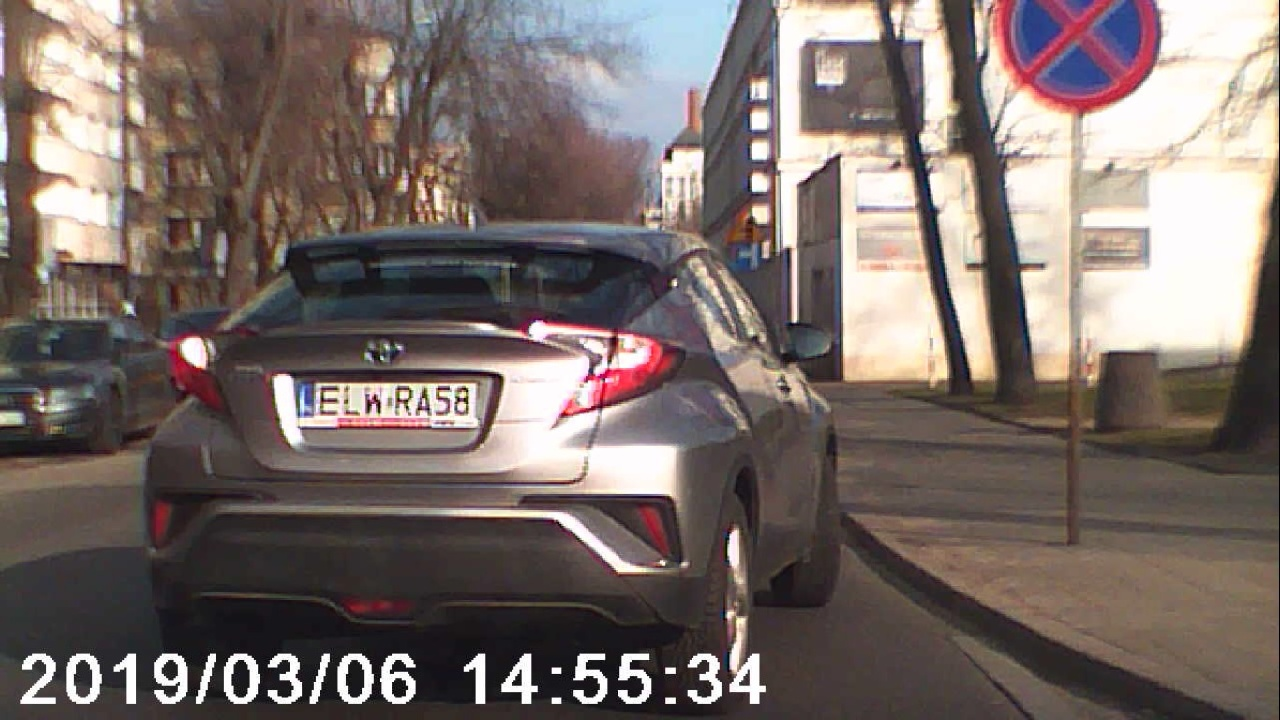B36: (997, 1, 1161, 110)
